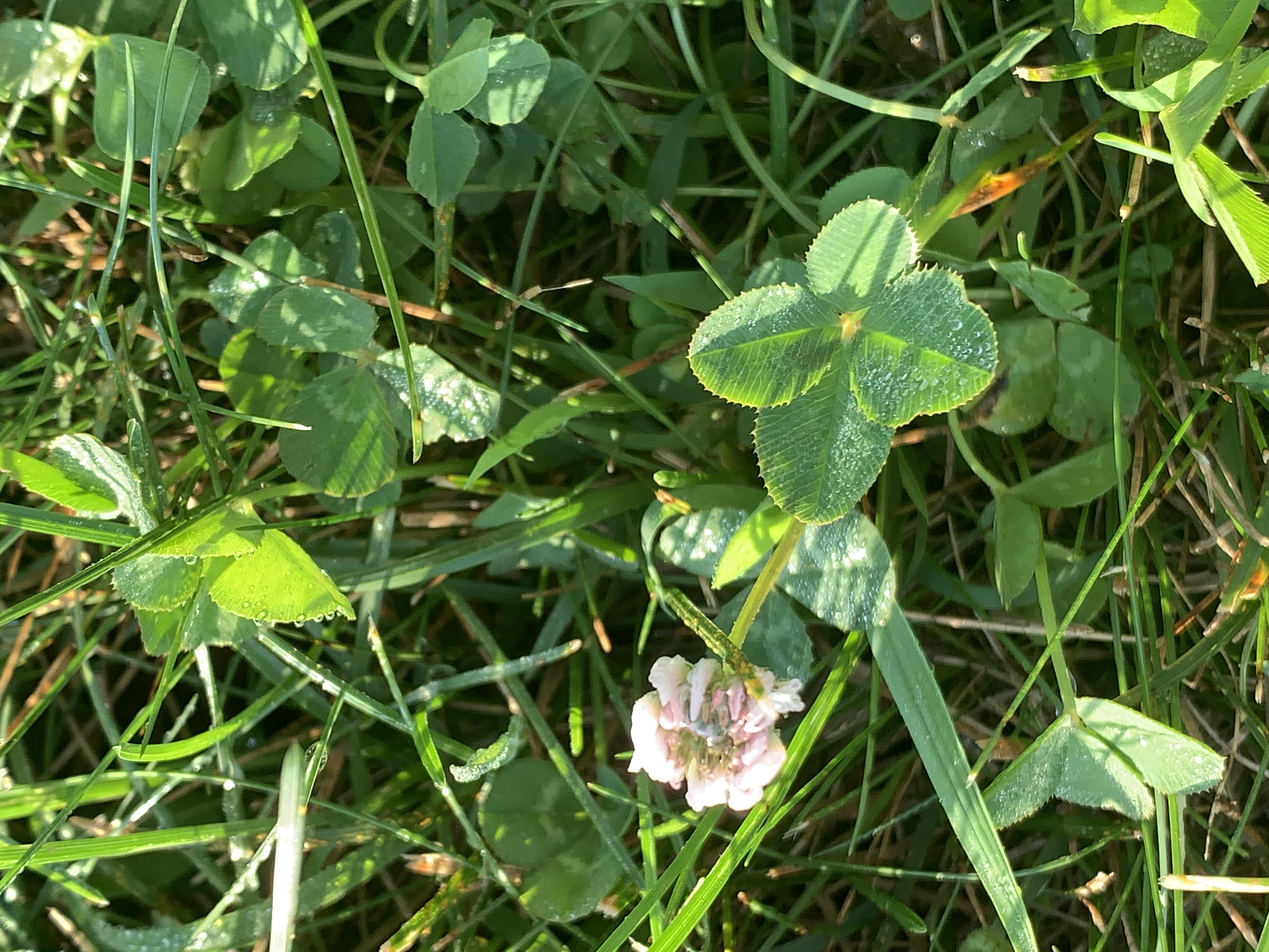4-Leaf-Clovers: (582, 519, 1004, 748)
